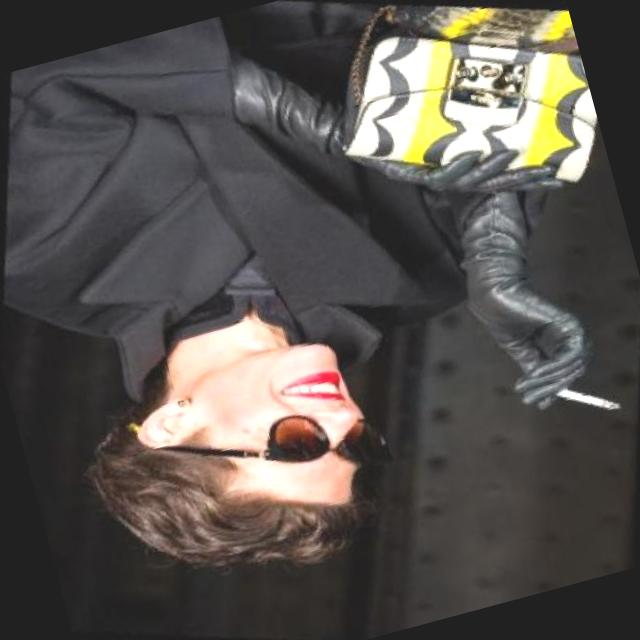smoke: (544, 367, 626, 428)
